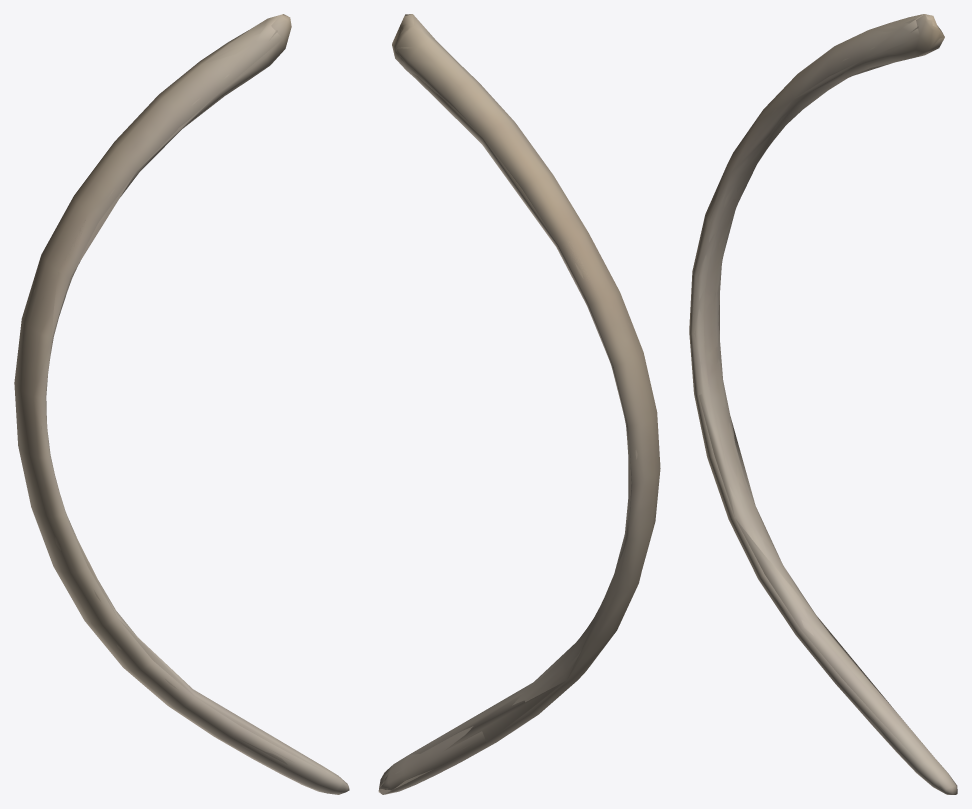
Rendered from Rib R01.fbx.
3 renders of one model, left to right at view 1: azimuth 30°, elevation 25°; view 2: azimuth 150°, elevation 25°; view 3: azimuth 330°, elevation 25°, orthographic. The views are drawn at different scales.
Visible parts, largest first — view 1: Rib R01, Rib R01 low, Rib R01 high; view 2: Rib R01, Rib R01 low, Rib R01 high; view 3: Rib R01, Rib R01 low, Rib R01 high.
Boxes of the visible parts, box(x1,y1,x2,y2) form: Rib R01: box(14, 14, 349, 794); Rib R01 low: box(36, 15, 326, 772); Rib R01 high: box(28, 24, 344, 789); Rib R01: box(378, 14, 660, 794); Rib R01 low: box(379, 14, 643, 794); Rib R01 high: box(384, 24, 648, 793); Rib R01: box(689, 14, 957, 794); Rib R01 low: box(692, 14, 955, 783); Rib R01 high: box(692, 17, 952, 788).
Size of the model in its own units: 3.88 by 9.79 by 1.29.
1 material, 1 textured.
